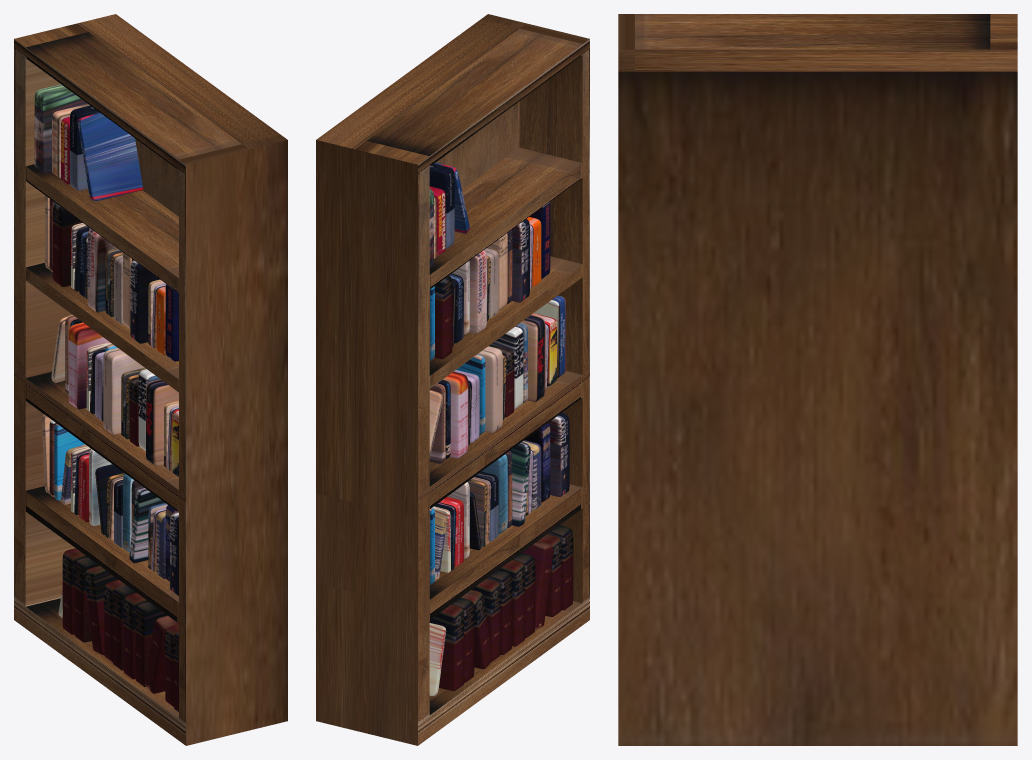
Rendered from bookshelf.glb.
3 renders of one model, left to right at view 1: azimuth 30°, elevation 25°; view 2: azimuth 150°, elevation 25°; view 3: azimuth 270°, elevation 25°, orthographic. The views are drawn at different scales.
Visible parts, largest first — view 1: Bookshelf; view 2: Bookshelf; view 3: Bookshelf.
Part boxes in pixels (x1,y1,x2,y2): Bookshelf: (14,14,287,745); Bookshelf: (316,14,589,745); Bookshelf: (618,14,1017,745).
Bounding box in the file's own units: 0.2109 × 1.15 × 0.617.
2 materials, 2 textured.
